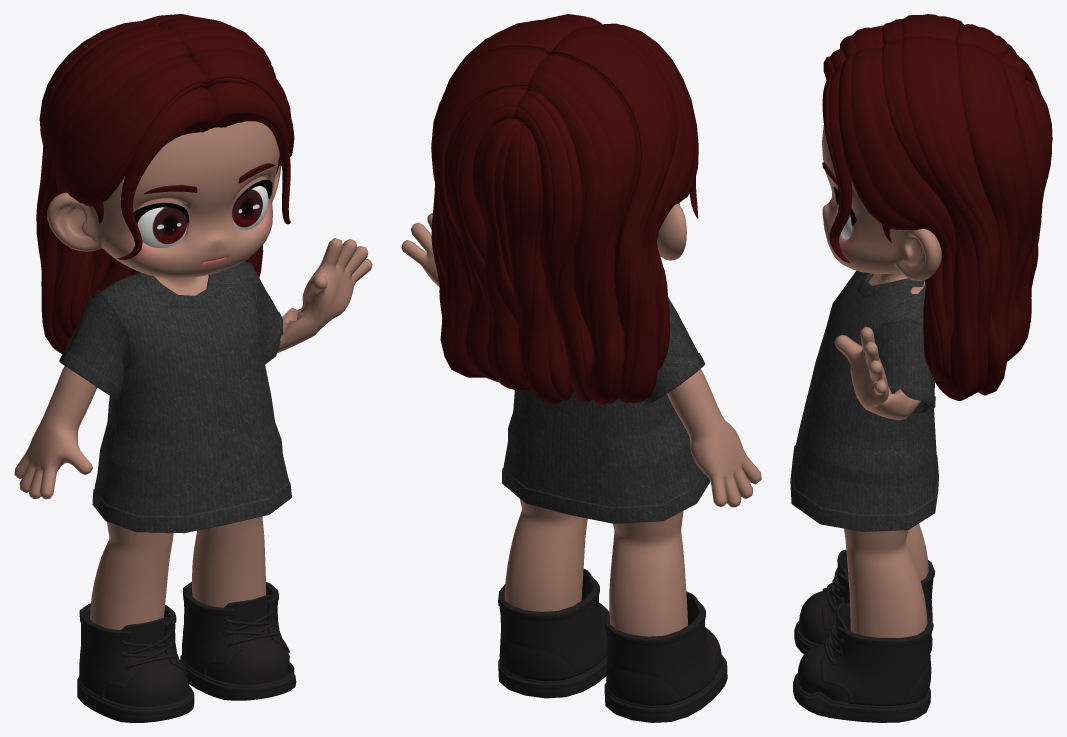
File: Lex3d.gltf
3 renders of one model, left to right at view 1: azimuth 30°, elevation 25°; view 2: azimuth 150°, elevation 25°; view 3: azimuth 270°, elevation 25°, orthographic. The views are drawn at different scales.
Visible parts, largest first — view 1: Chloe_hair2_back_03.001; view 2: Chloe_hair2_back_03.001; view 3: Chloe_hair2_back_03.001.
Part boxes in pixels (left/top/right/bottom): Chloe_hair2_back_03.001: left=14, top=14, right=372, bottom=722; Chloe_hair2_back_03.001: left=401, top=14, right=761, bottom=722; Chloe_hair2_back_03.001: left=790, top=14, right=1052, bottom=722.
Size of the model in its own units: 0.1192 by 0.2161 by 0.0786.
4 materials, 4 textured.
